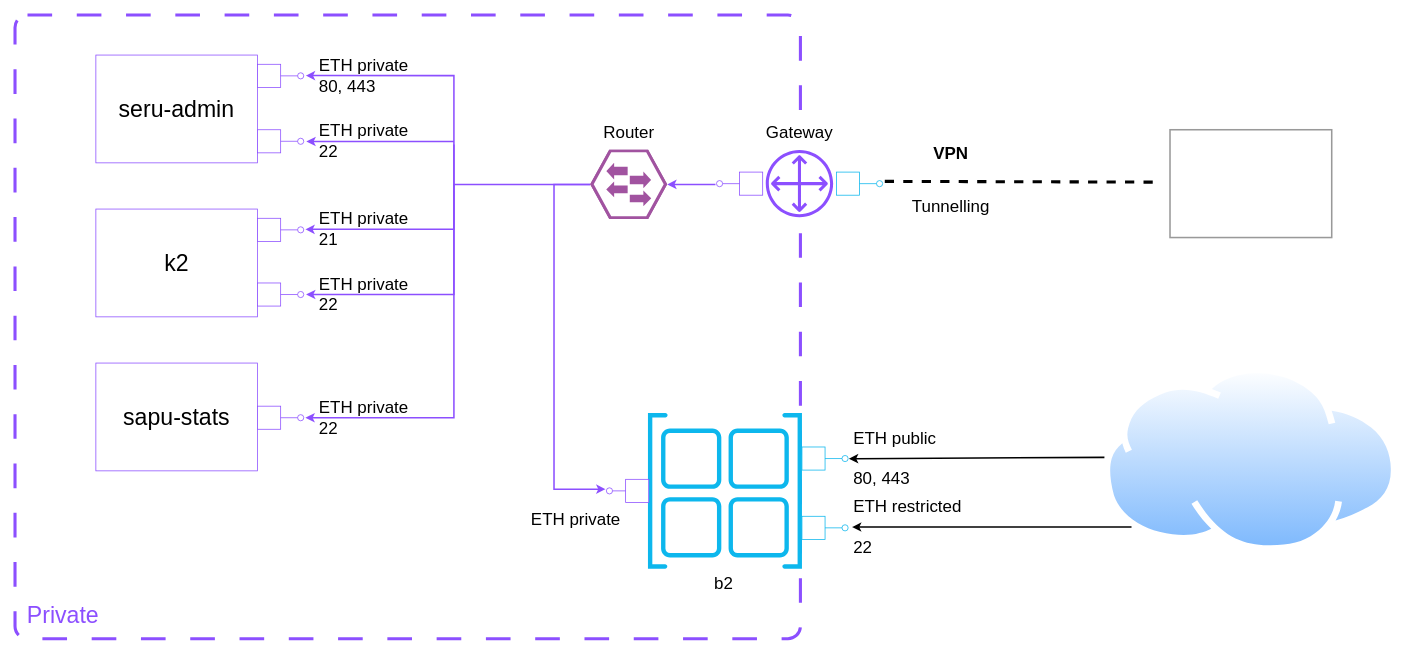
This 1411x653 diagram has some shape labels left out. Each missing label, with the centre of its shape:
CLOUD: the point at 1250,459
👨‍💼Admin: the point at 1250,183
